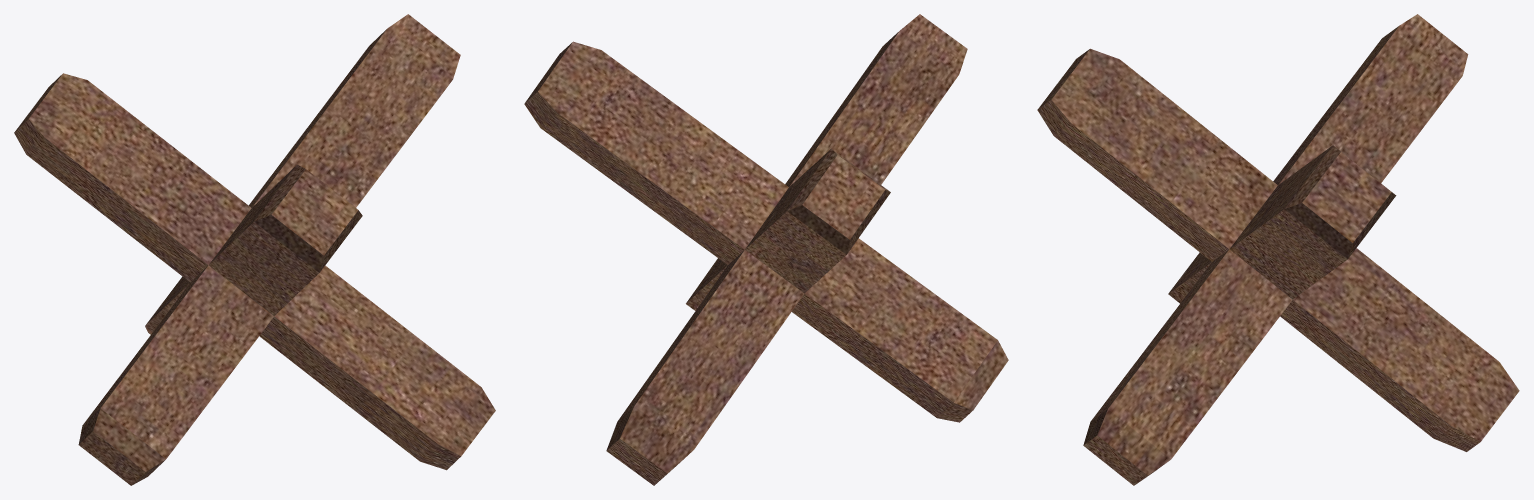
The model's file is war_fence_metal.dae.
3 views of the same model, side by side, from view 1: azimuth 30°, elevation 25°; view 2: azimuth 150°, elevation 25°; view 3: azimuth 270°, elevation 25° (orthographic).
Parts seen in each view (by area): view 1: Cube; view 2: Cube; view 3: Cube.
Part boxes in pixels (x1,y1,x2,y2): Cube: (14, 14, 495, 485); Cube: (524, 14, 1008, 485); Cube: (1037, 14, 1519, 485).
Size of the model in its own units: 0.8885 by 0.8757 by 0.7438.
1 material, 1 textured.
